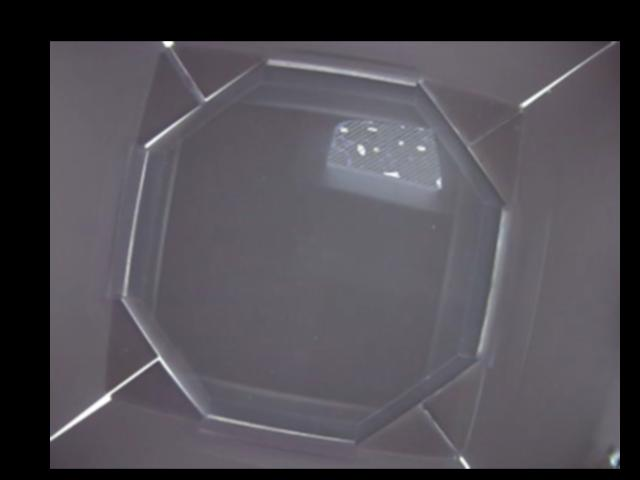China: (329, 118, 442, 191)
